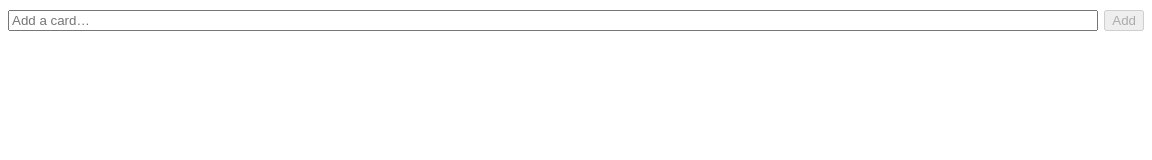
Test: <AddCardForm> › adds a card to the store and clears the input on submit
The width and height of the screenshot is (1152, 160).
Step 1. Type "Write tests" into the field labelled "Add a card…" → (553, 20), box [8,10,1098,31]
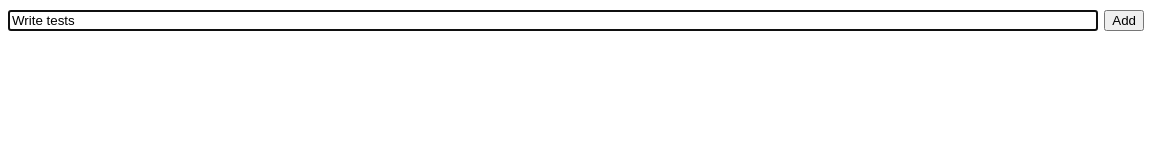
Step 2. Click the button "Add" → (1124, 20), box [1104,10,1144,31]
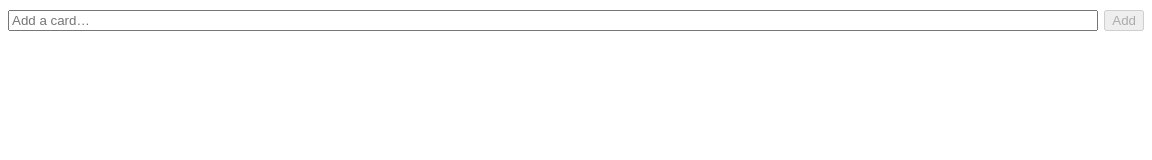
Expected: the field labelled "Add a card…" is empty, [8,10,1098,31]
